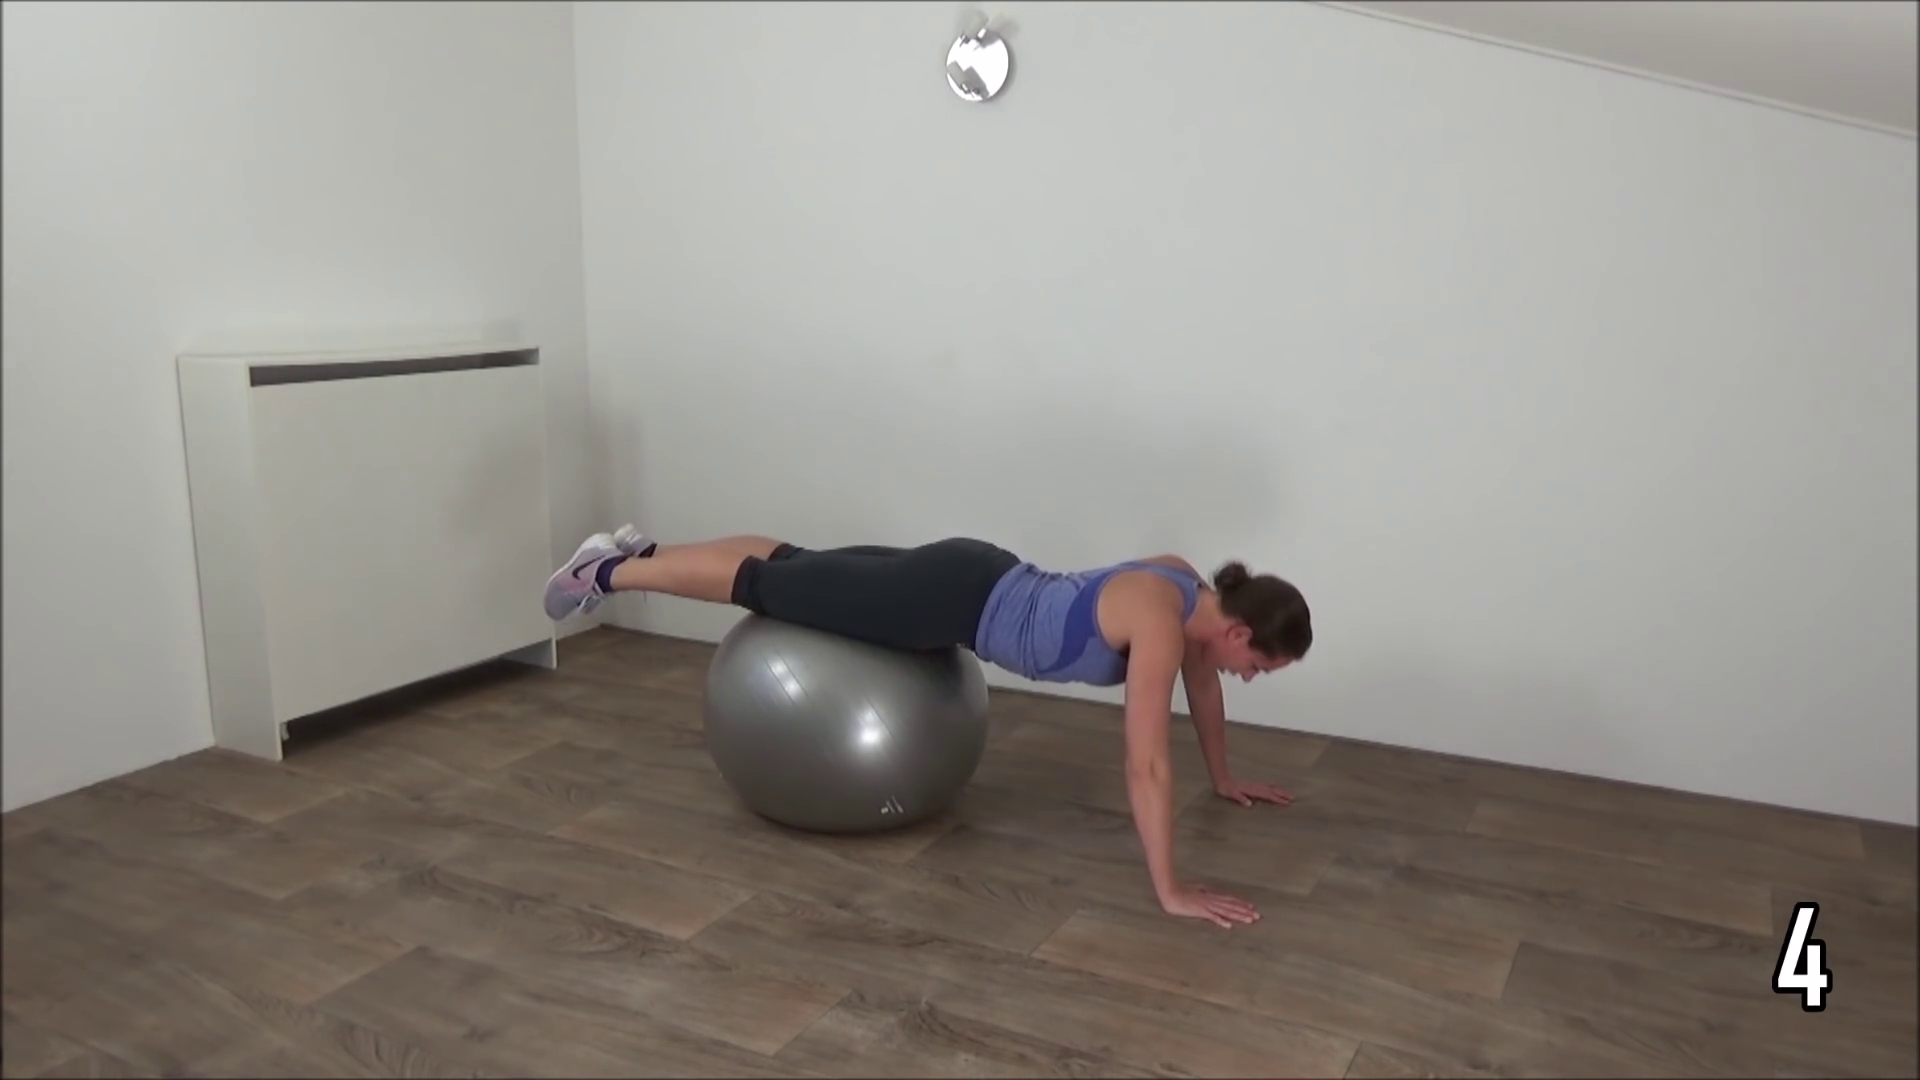yogaball: (687, 603, 997, 841)
